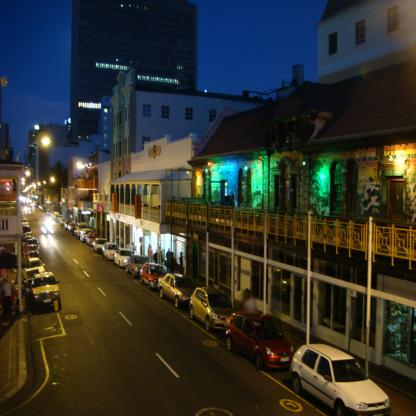Car: (292, 344, 392, 416), (227, 314, 297, 373), (192, 282, 235, 331), (58, 217, 99, 249), (31, 271, 61, 309), (24, 210, 41, 277), (160, 275, 196, 306), (141, 264, 165, 290), (127, 258, 151, 277), (114, 249, 134, 268), (105, 243, 119, 261), (94, 240, 107, 253)
